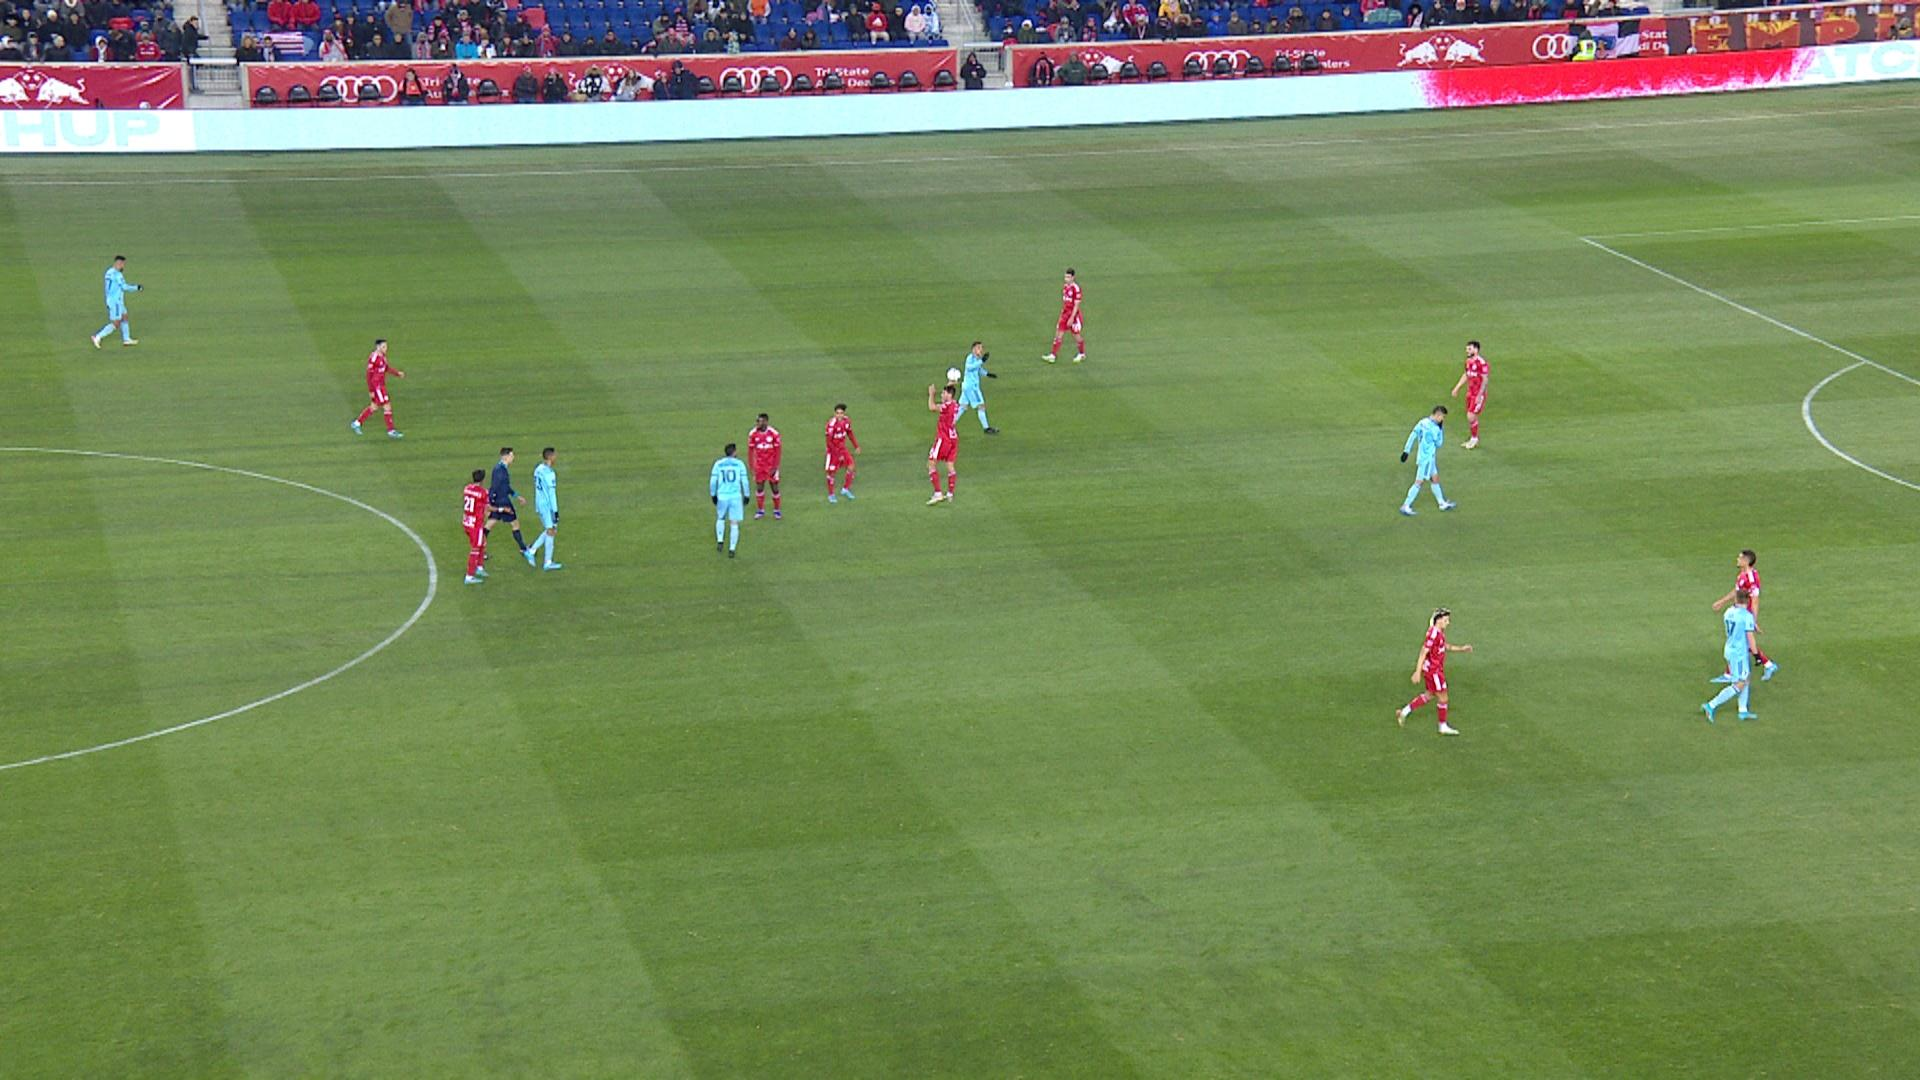football: (945, 365, 961, 381)
